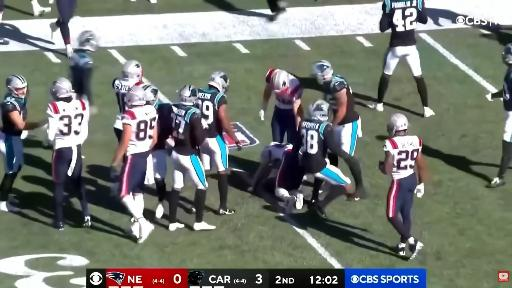Helmet: (270, 70, 291, 94), (50, 78, 74, 99), (312, 60, 333, 84), (6, 75, 27, 97), (387, 114, 408, 136), (208, 72, 229, 93), (78, 31, 98, 51), (122, 60, 142, 80), (310, 100, 329, 121), (126, 87, 146, 106), (179, 85, 197, 104), (142, 85, 158, 105), (502, 43, 512, 65), (267, 142, 280, 146)
Jersey: (294, 119, 333, 173), (47, 99, 89, 149), (383, 0, 427, 47), (322, 75, 359, 125), (171, 103, 205, 155), (122, 106, 158, 155), (384, 136, 422, 179), (113, 78, 143, 129), (196, 89, 227, 138), (69, 50, 93, 99), (1, 94, 27, 135), (113, 78, 142, 113), (275, 75, 303, 109), (153, 103, 172, 150), (262, 144, 292, 163), (503, 68, 511, 111)
Player: (368, 0, 434, 117), (294, 100, 359, 217), (111, 87, 157, 242), (168, 86, 215, 230), (380, 114, 426, 259), (47, 78, 90, 229), (196, 72, 241, 215), (0, 75, 46, 211), (313, 60, 361, 155), (143, 85, 172, 218), (248, 143, 303, 212), (487, 44, 511, 187), (259, 69, 303, 143), (69, 31, 98, 114), (113, 60, 142, 141), (70, 31, 98, 114), (248, 142, 292, 192), (275, 147, 305, 213), (50, 0, 77, 57), (142, 84, 162, 108)
